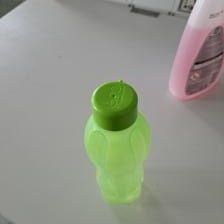bottle: (83, 79, 151, 207)
